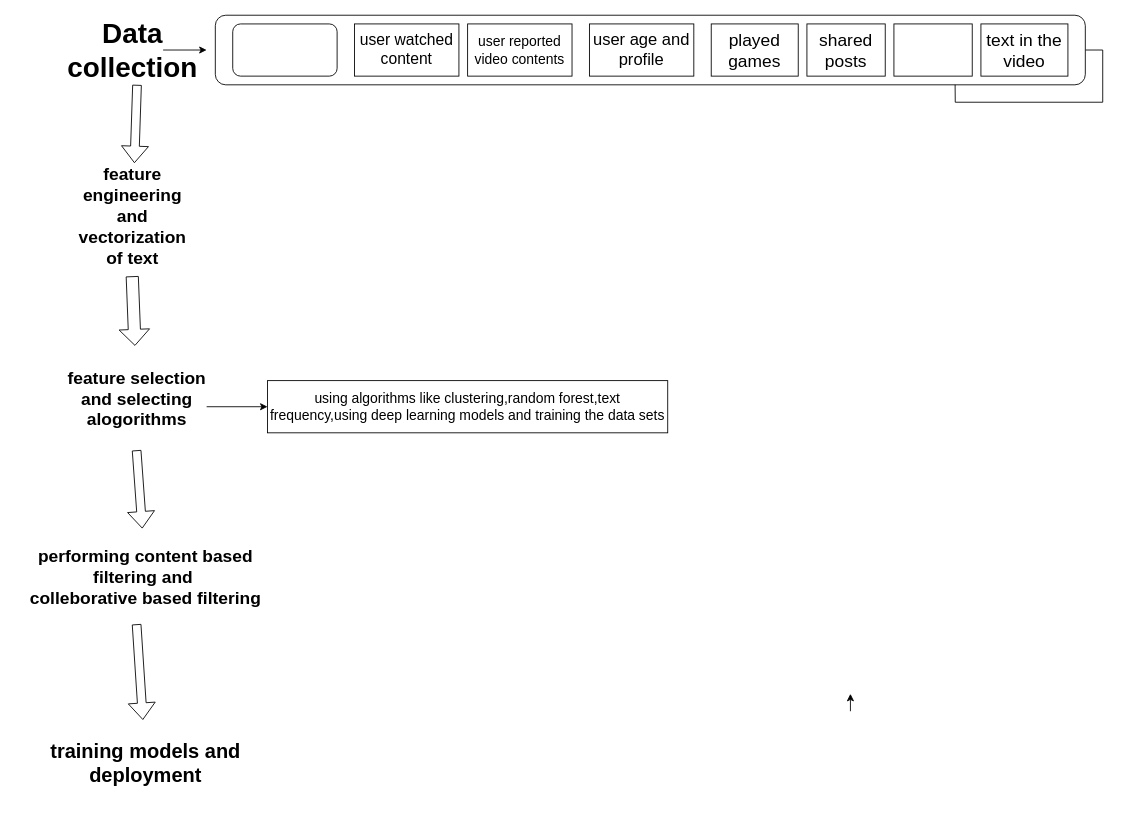
The diagram is 1125 pixels wide and 822 high, and some of its shapes have lost their labels. Here are the shapes that lost their labels. From the top down, the centre of each, then its label:
(284,49): view minutes of a user - total min of video
(932,49): viewed profiles
